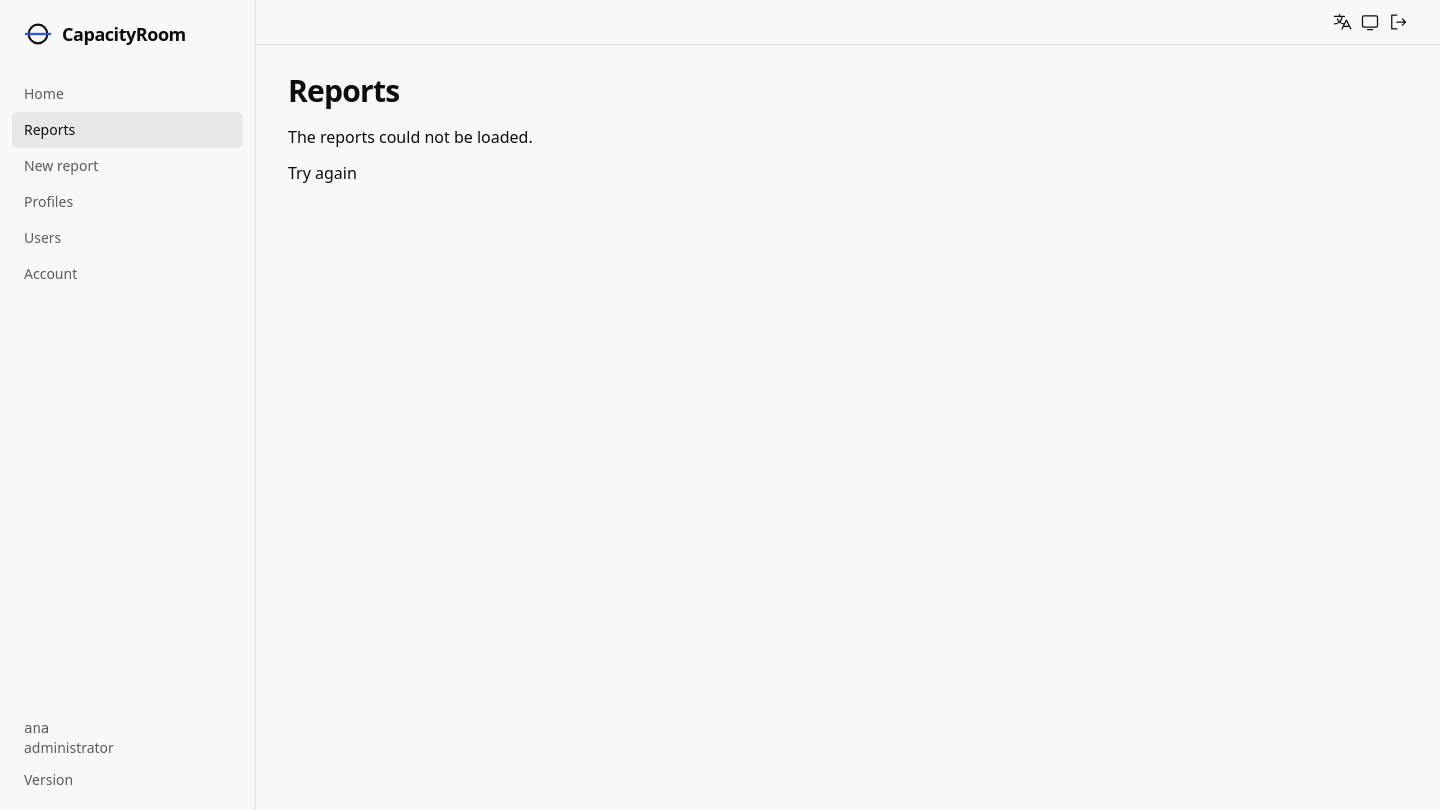
Test: report list › a failed load offers a retry
Expected: the text "The reports could not be loaded." is shown, [288, 125, 533, 149]
Step 1. Click the button "Try again" → click(322, 173), box [288, 161, 357, 185]
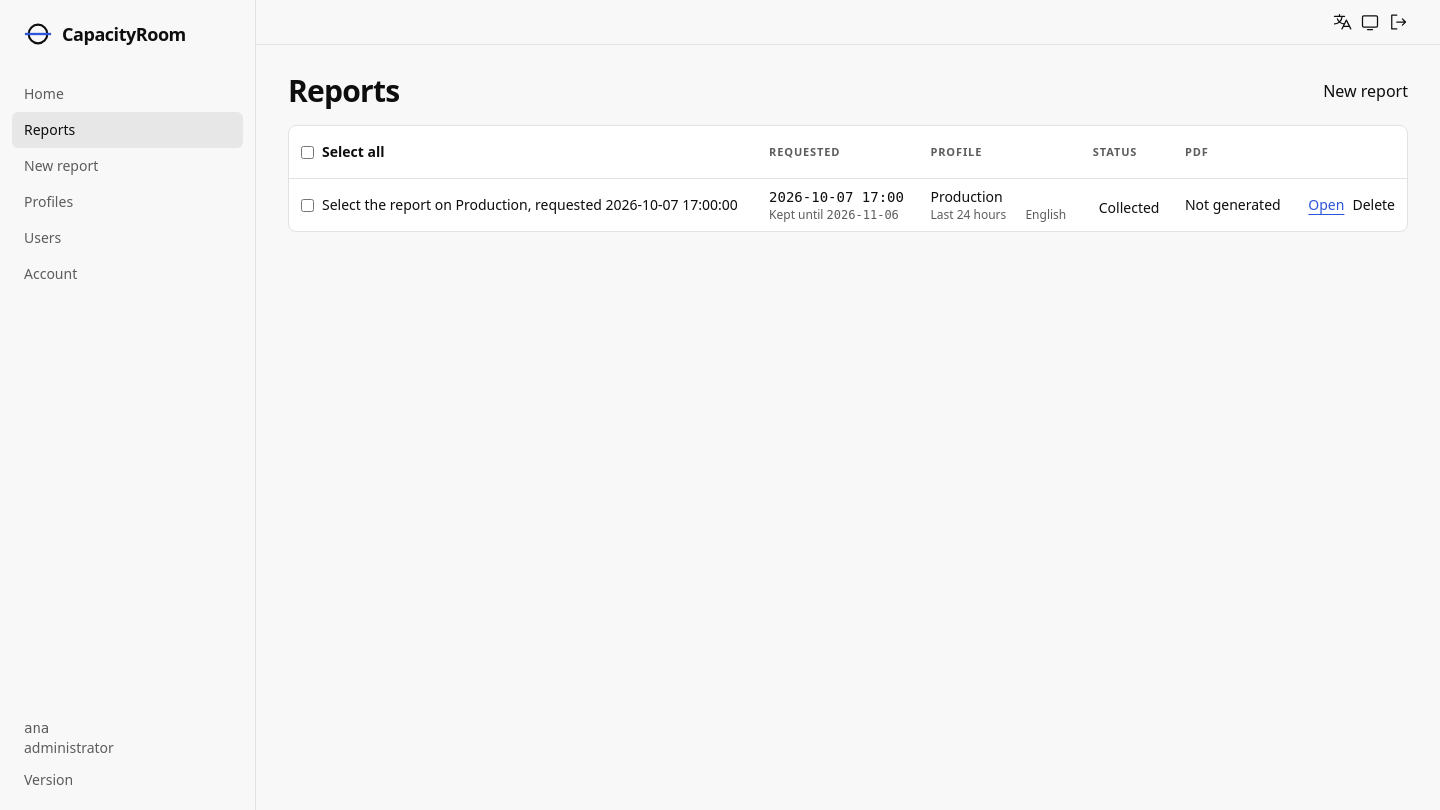
Expected: the text "The reports could not be loaded." is gone
